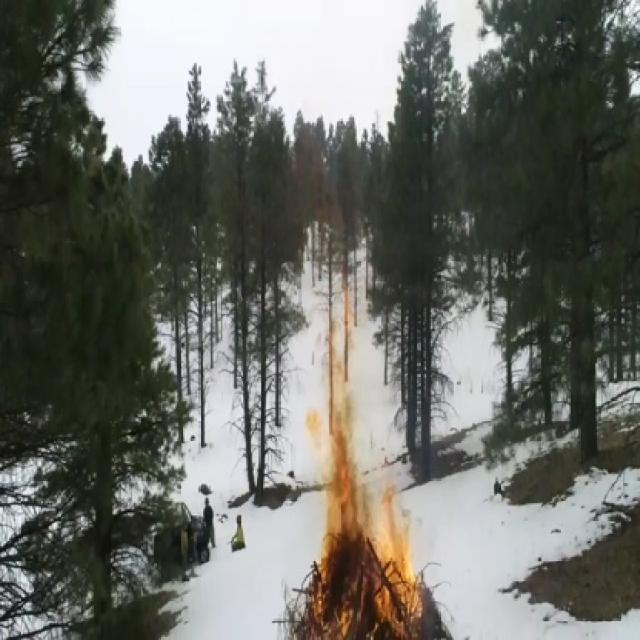Fire: (311, 552, 444, 637), (334, 352, 366, 640), (383, 491, 416, 551)
